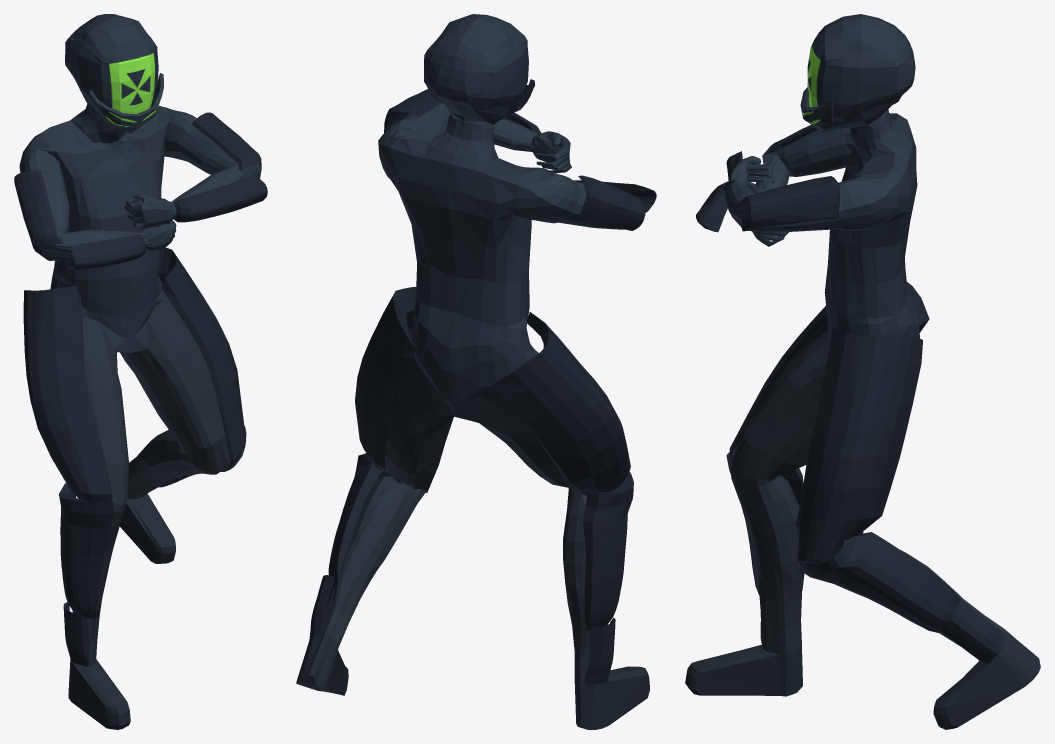
The model's file is Bastion_WB_000021.obj.
The picture shows the model from 3 angles, left to right: view 1: azimuth 30°, elevation 25°; view 2: azimuth 150°, elevation 25°; view 3: azimuth 270°, elevation 25°; orthographic projection. The views are drawn at different scales.
Visible parts, largest first — view 1: Cube.002; view 2: Cube.002; view 3: Cube.002.
Part boxes in pixels (x1=…): Cube.002: x1=14, y1=14, x2=267, y2=729; Cube.002: x1=296, y1=14, x2=656, y2=729; Cube.002: x1=685, y1=14, x2=1040, y2=729.
Size of the model in its own units: 1.41 by 3.68 by 1.67.
